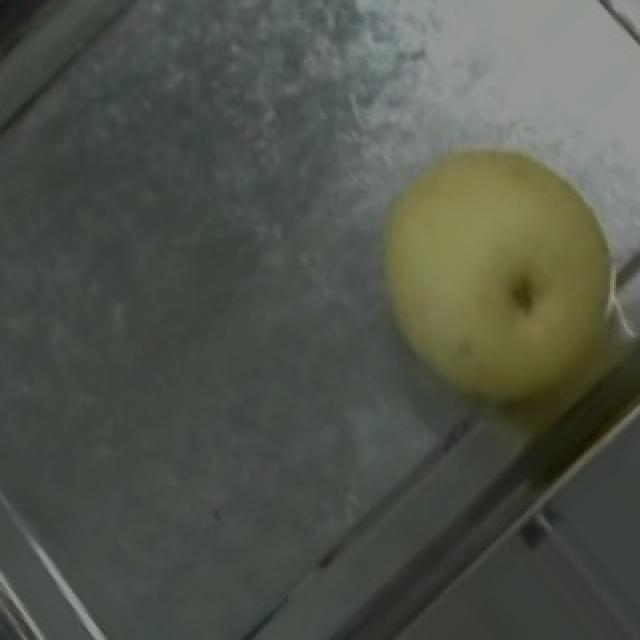Fruit: (334, 102, 640, 449)
